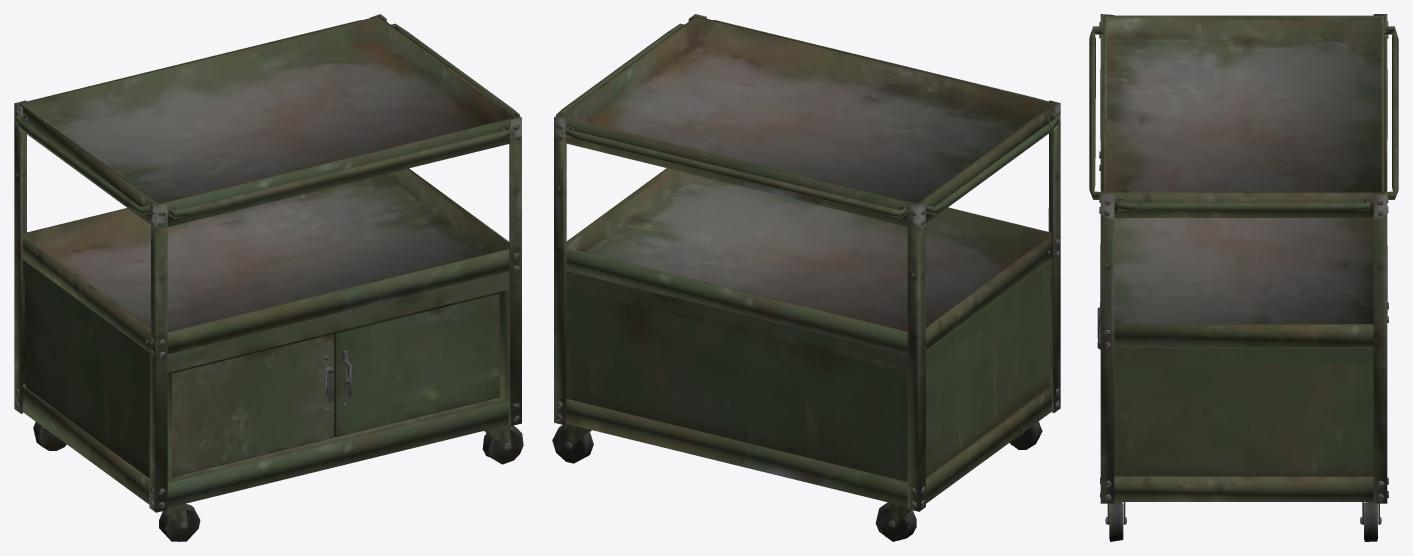
The model's file is industrial_storage_cart.glb.
The picture shows the model from 3 angles, left to right: view 1: azimuth 30°, elevation 25°; view 2: azimuth 150°, elevation 25°; view 3: azimuth 270°, elevation 25°; orthographic projection.
Visible parts, largest first — view 1: industrial_storage_cart; view 2: industrial_storage_cart; view 3: industrial_storage_cart.
Boxes of the visible parts, x1,y1,x2,y2 form: industrial_storage_cart: (14, 14, 523, 541); industrial_storage_cart: (552, 14, 1060, 541); industrial_storage_cart: (1089, 14, 1398, 541).
Bounding box in the file's own units: 1.6 × 1.38 × 1.1.
1 material, 1 textured.
